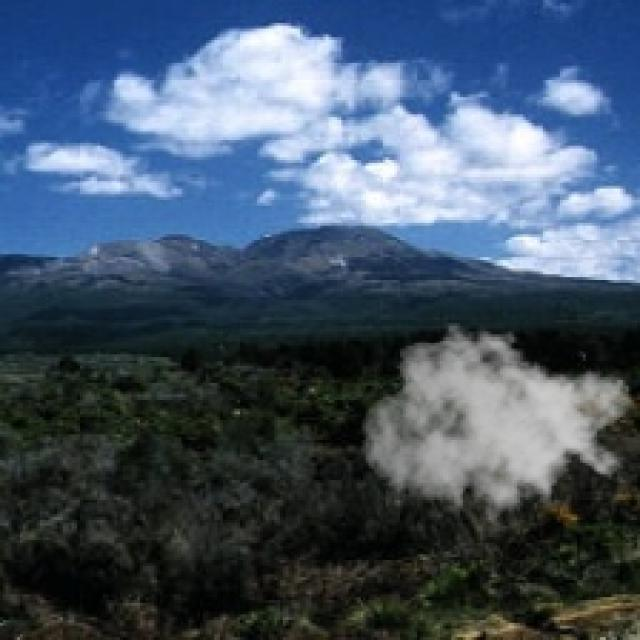smoke: (360, 317, 634, 534)
